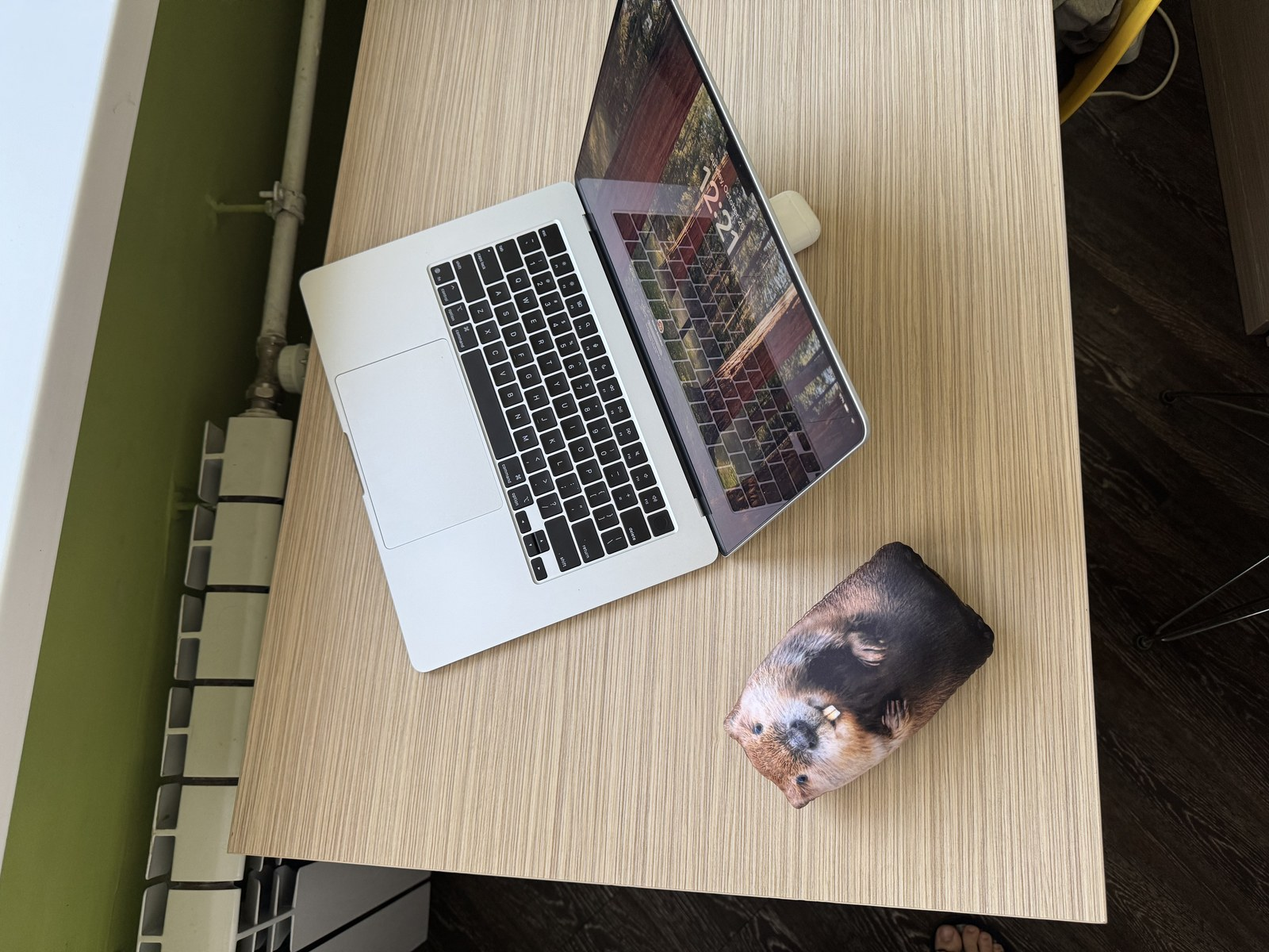laptop: (298, 0, 872, 673)
